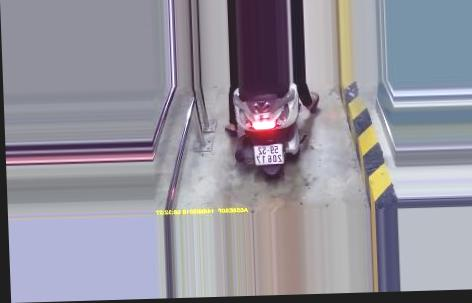License_Plate: (252, 142, 290, 169)
